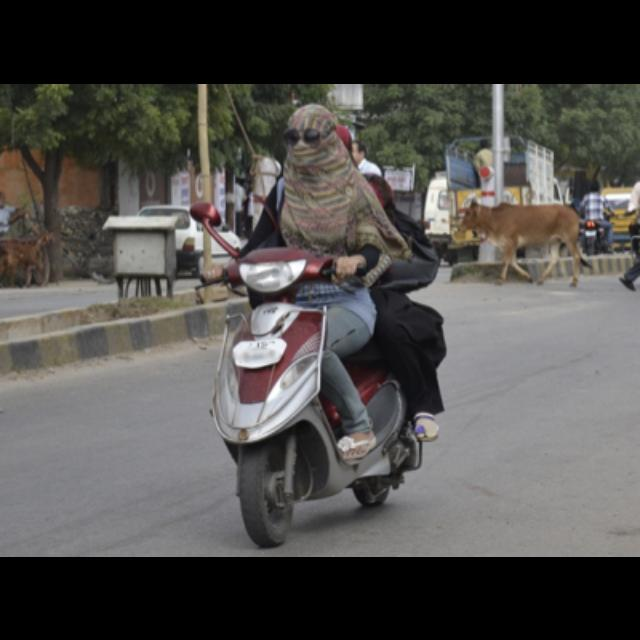Without Helmet: (280, 98, 340, 164)
